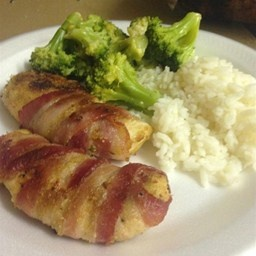background: (0, 4, 102, 98)
